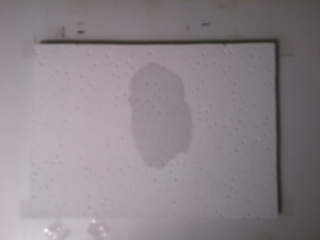Water_detected: (129, 77, 190, 158)
